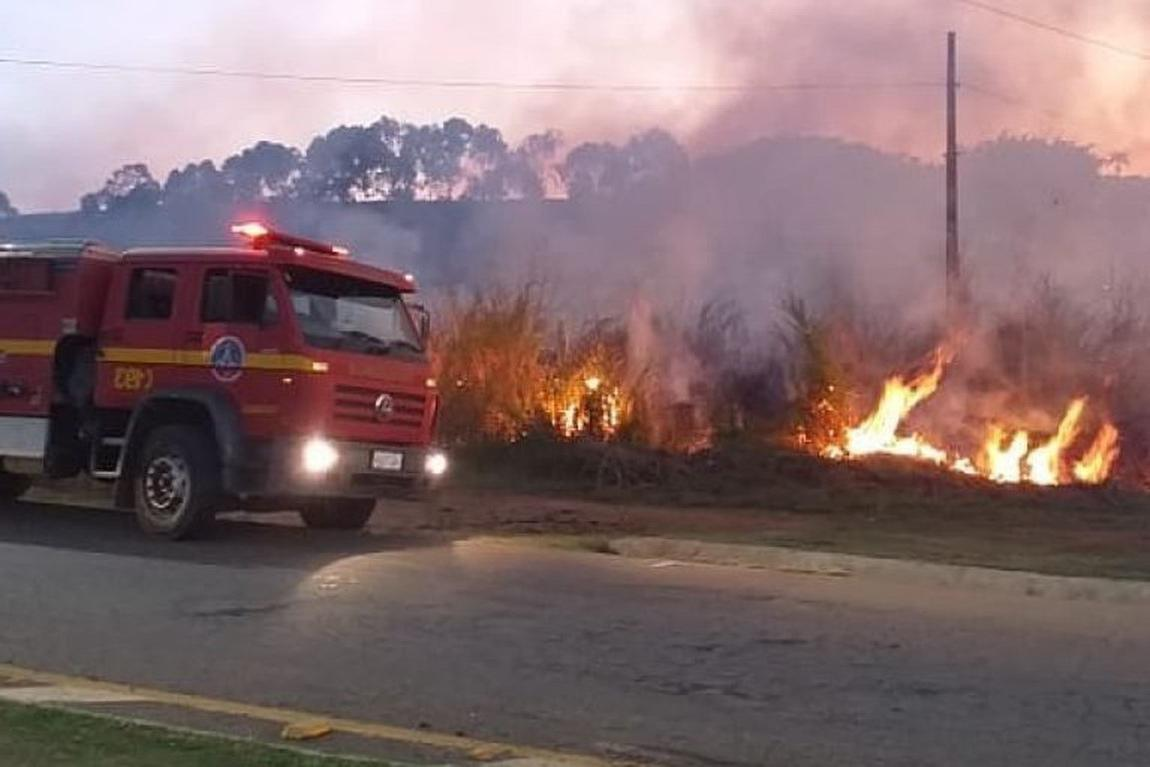Fire: (955, 390, 1120, 485), (827, 356, 952, 462), (561, 380, 620, 437)
